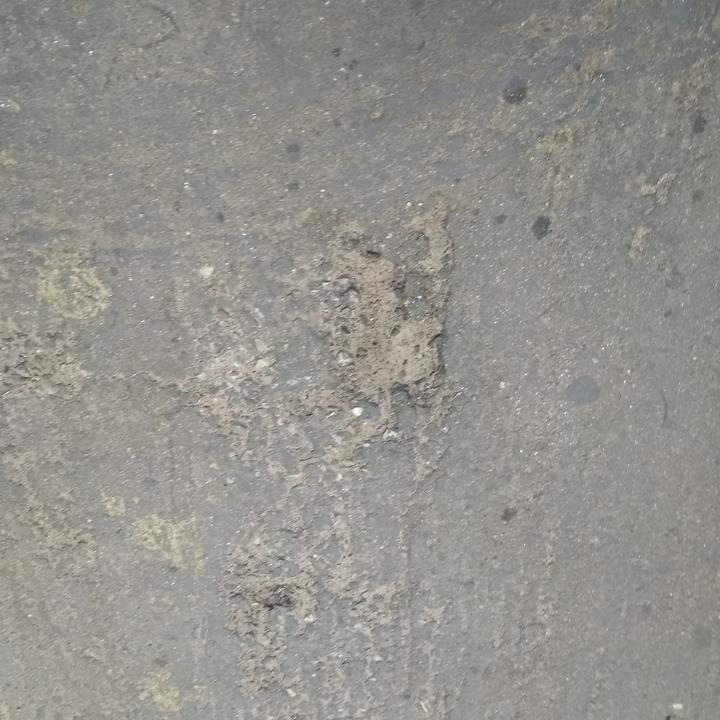pothole: (304, 215, 459, 411), (234, 577, 296, 613)
